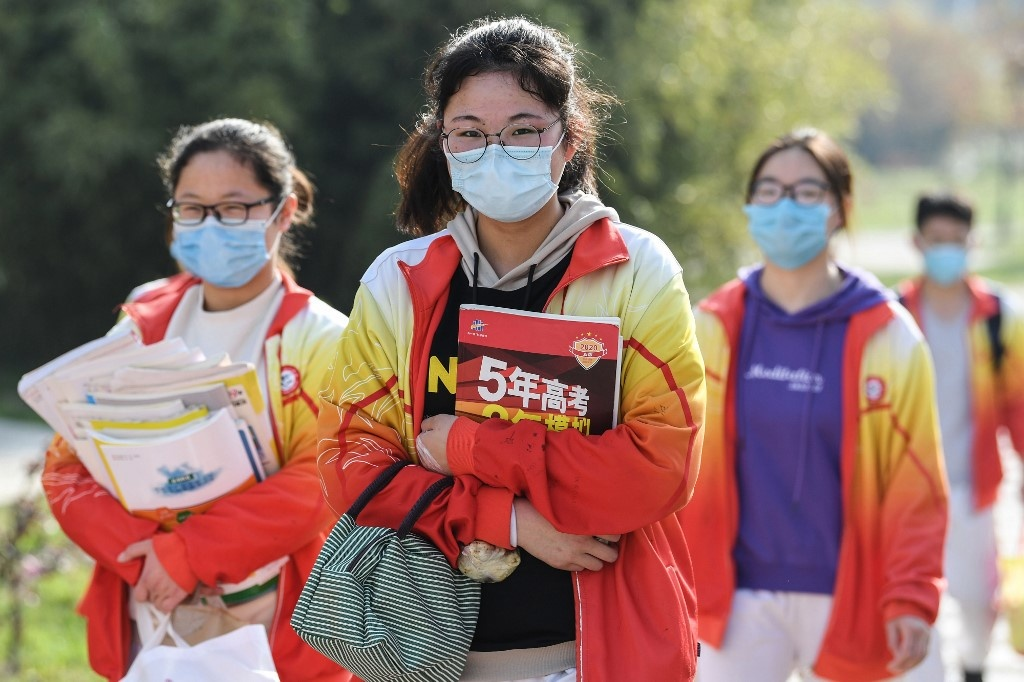with_mask: (435, 65, 571, 213), (164, 150, 286, 283), (741, 141, 847, 265)
